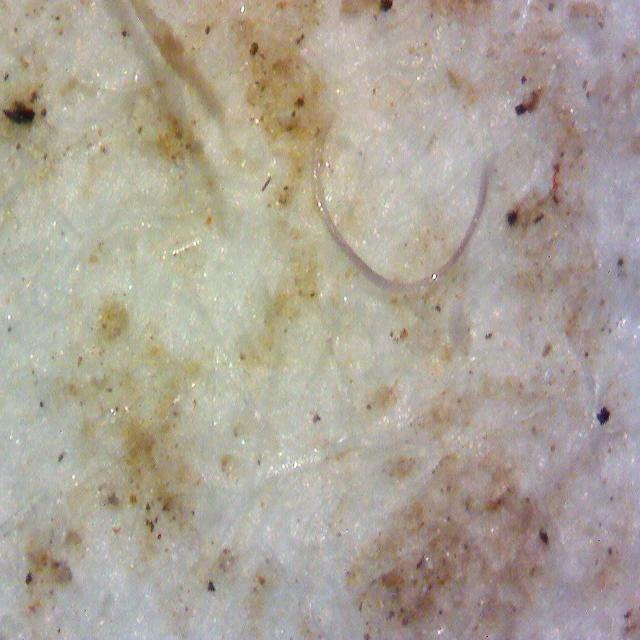microplastic: (316, 143, 492, 298)
